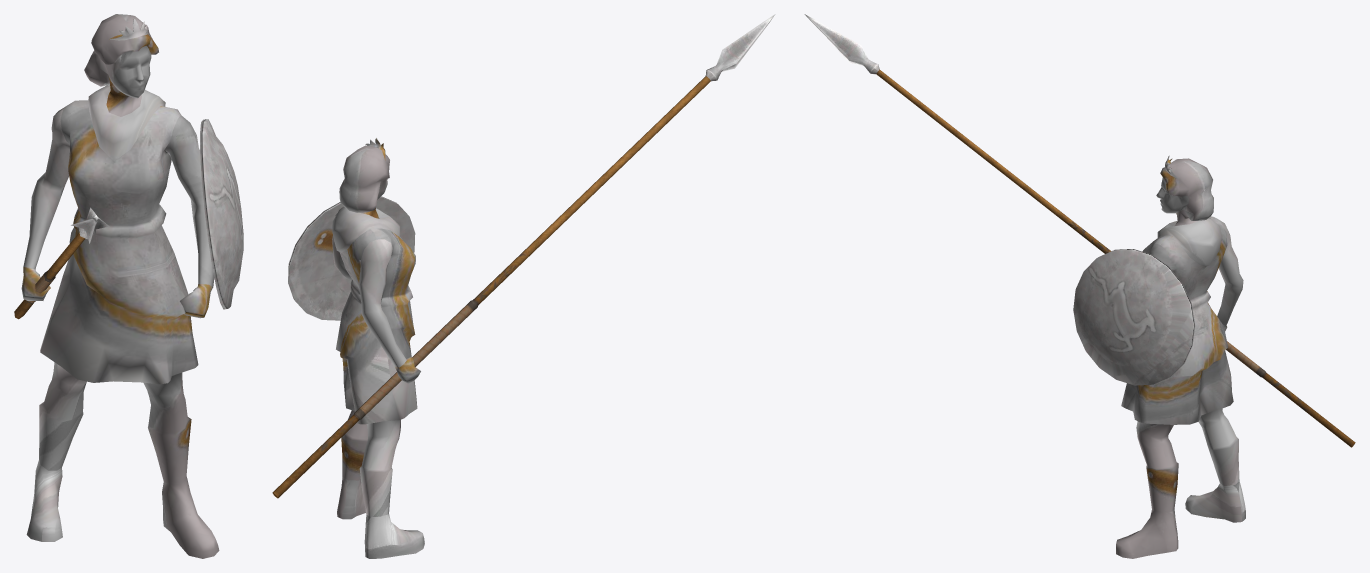
The model's file is 83-atalanta.glb.
The picture shows the model from 3 angles, left to right: view 1: azimuth 30°, elevation 25°; view 2: azimuth 150°, elevation 25°; view 3: azimuth 270°, elevation 25°; orthographic projection. The views are drawn at different scales.
Size of the model in its own units: 1.73 by 2.44 by 2.89.
Materials: 3 (3 with a texture image).
